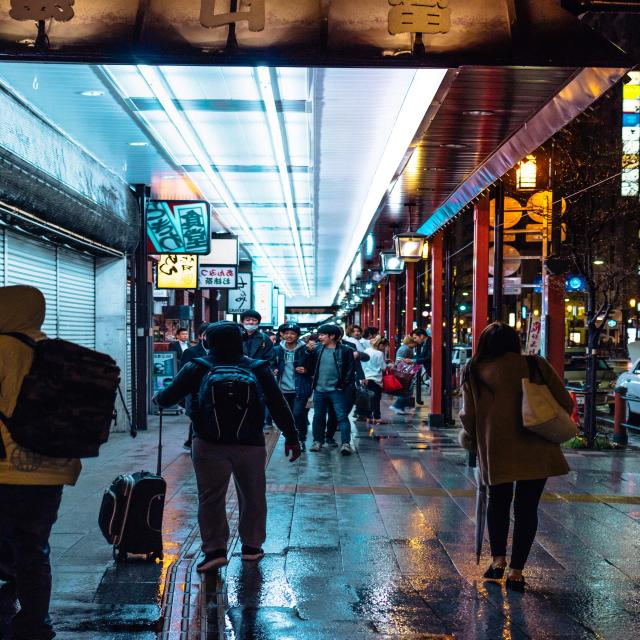adult: (157, 322, 302, 574), (461, 323, 579, 591), (0, 283, 78, 640), (308, 325, 360, 452), (269, 324, 310, 445), (359, 337, 390, 422), (237, 313, 273, 364), (404, 328, 431, 369), (169, 328, 191, 352)
